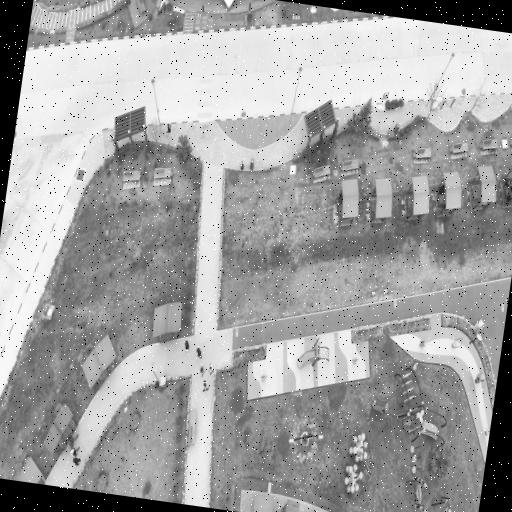person: (71, 448, 79, 457), (73, 457, 81, 466), (203, 381, 208, 392), (197, 348, 202, 358), (167, 124, 171, 136), (209, 364, 213, 374), (185, 341, 189, 350), (200, 367, 204, 376)
